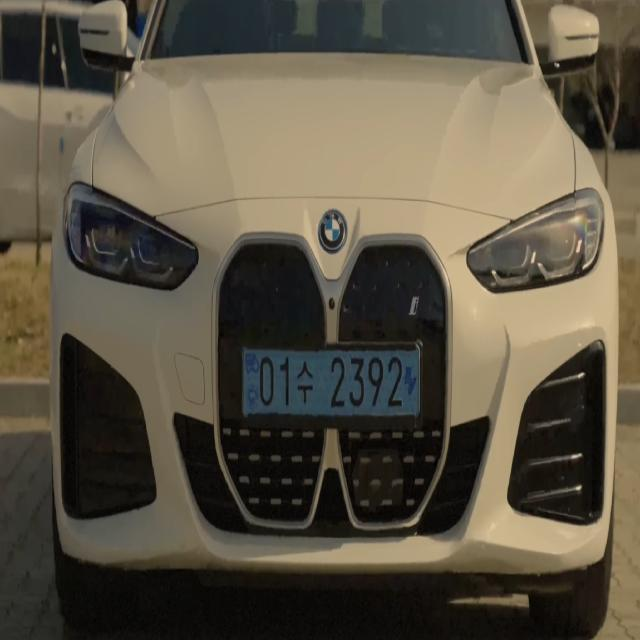car: (218, 333, 447, 435)
carev: (238, 342, 260, 425), (402, 343, 422, 428)
